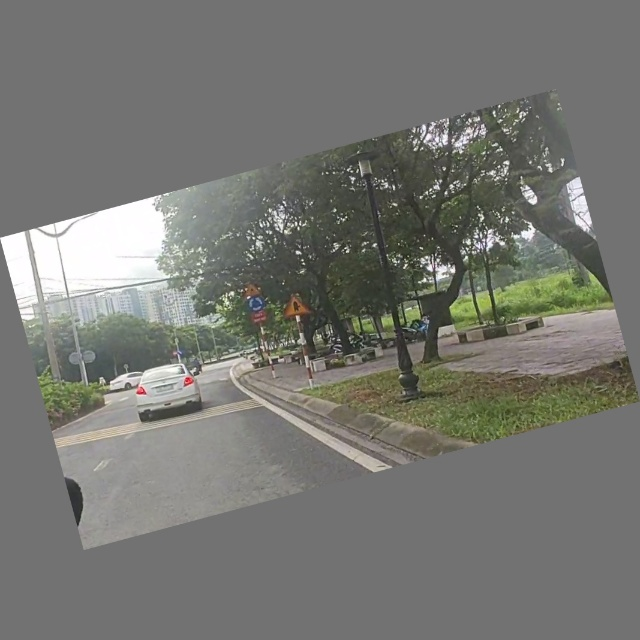P.102: (171, 350, 178, 358)
R.302a: (176, 348, 185, 357)
R.303: (245, 294, 268, 315)
W.207: (280, 292, 310, 321)
W.224: (239, 281, 264, 299)
